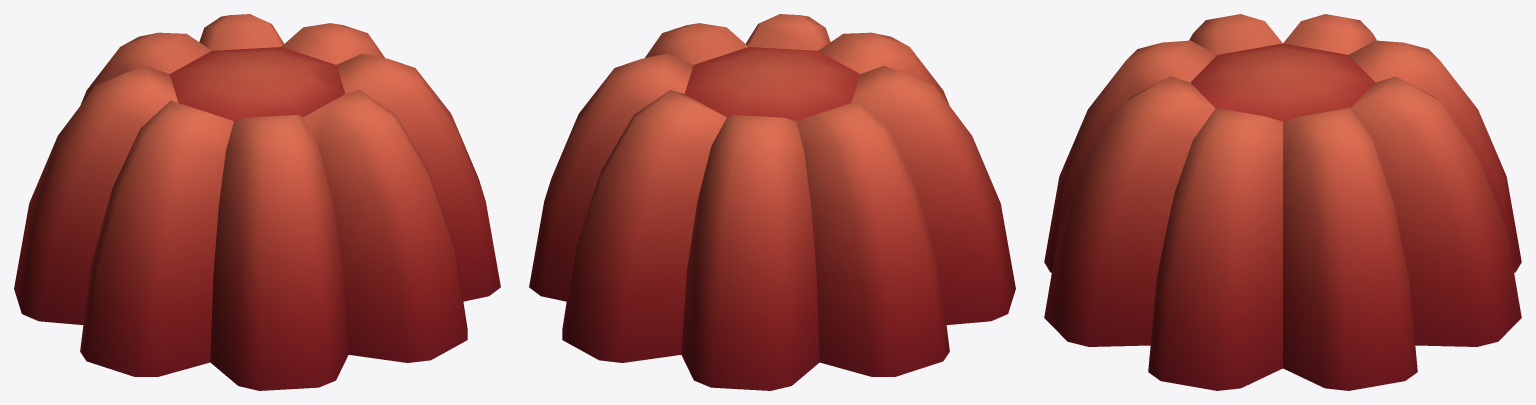
The model's file is Jelly_01.glb.
3 renders of one model, left to right at view 1: azimuth 30°, elevation 25°; view 2: azimuth 150°, elevation 25°; view 3: azimuth 270°, elevation 25°, orthographic.
Parts seen in each view (by area): view 1: Jelly_01; view 2: Jelly_01; view 3: Jelly_01.
Boxes of the visible parts, bbox=[...] form: Jelly_01: bbox=[14, 14, 500, 390]; Jelly_01: bbox=[529, 14, 1015, 390]; Jelly_01: bbox=[1044, 14, 1521, 390].
Size of the model in its own units: 0.6894 by 0.3534 by 0.6894.
1 material, 1 textured.
